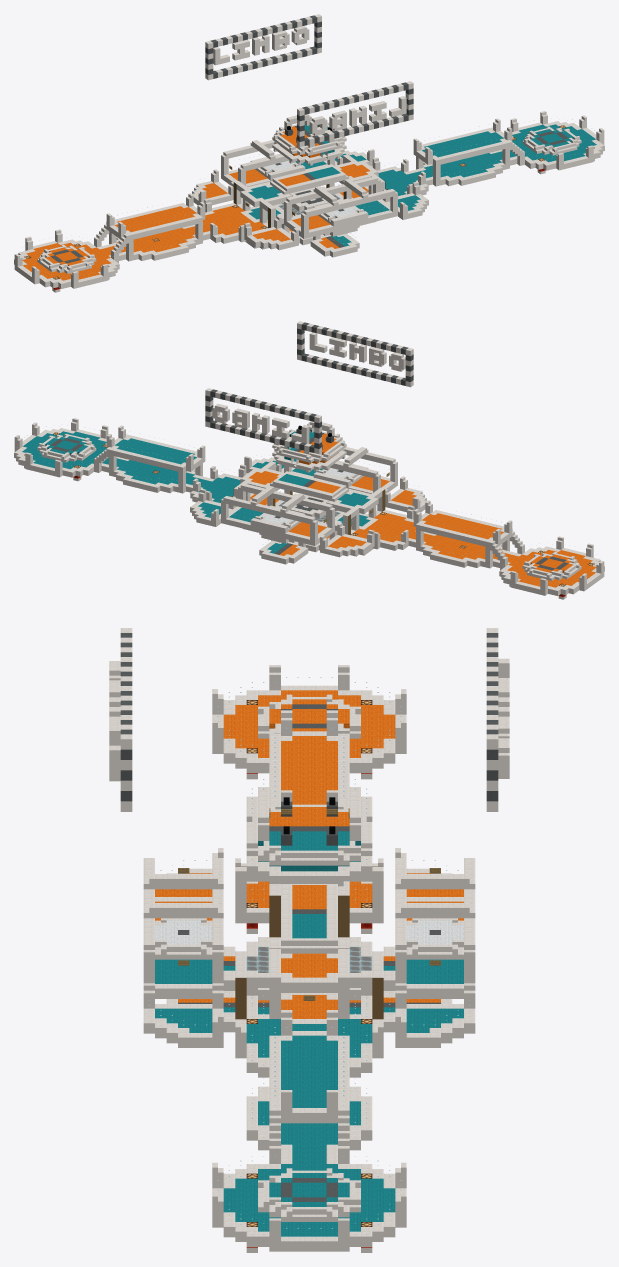
File: minecraft.obj
The picture shows the model from 3 angles, top to bottom: view 1: azimuth 30°, elevation 25°; view 2: azimuth 150°, elevation 25°; view 3: azimuth 270°, elevation 25°; orthographic projection. The views are drawn at different scales.
Bounding box in the file's own units: 115 × 32 × 35.
